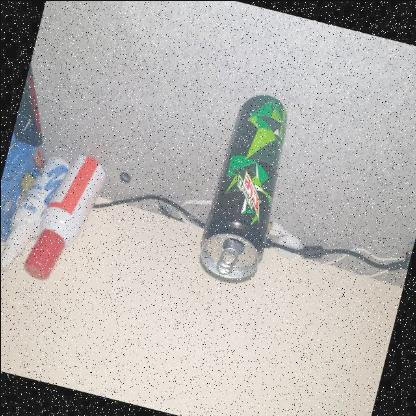Can: (186, 84, 304, 304)
